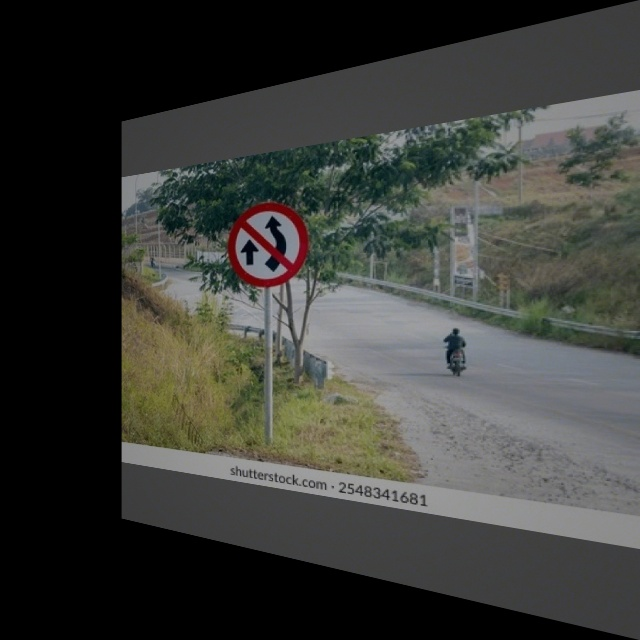Overtaking_Prohibited: (230, 196, 307, 287)
